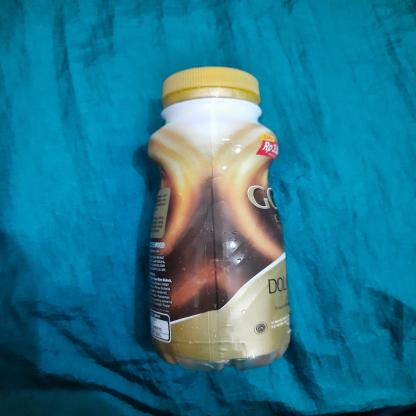plastic: (141, 64, 294, 372)
